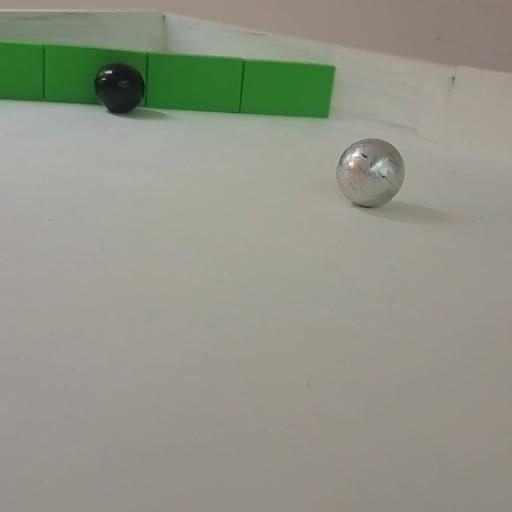alive: (334, 137, 406, 207)
dead: (94, 62, 146, 114)
